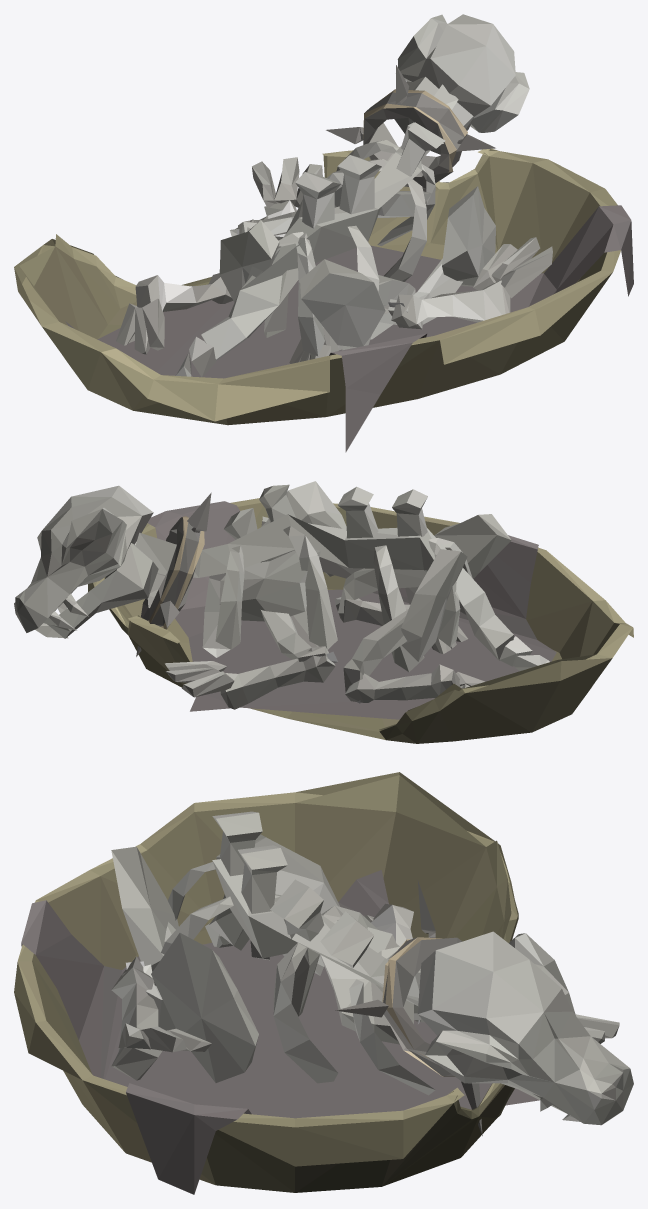
File: dmuncher.fbx
3 views of the same model, one above another, from view 1: azimuth 30°, elevation 25°; view 2: azimuth 150°, elevation 25°; view 3: azimuth 270°, elevation 25° (orthographic). The views are drawn at different scales.
Parts seen in each view (by area): view 1: Object Muncher 2024-03-15_19-00-35; view 2: Object Muncher 2024-03-15_19-00-35; view 3: Object Muncher 2024-03-15_19-00-35.
Part boxes in pixels (x1,y1,x2,y2): Object Muncher 2024-03-15_19-00-35: (14,14,633,452); Object Muncher 2024-03-15_19-00-35: (14,481,633,743); Object Muncher 2024-03-15_19-00-35: (14,772,633,1194).
Size of the model in its own units: 22000 by 8500 by 17200.
